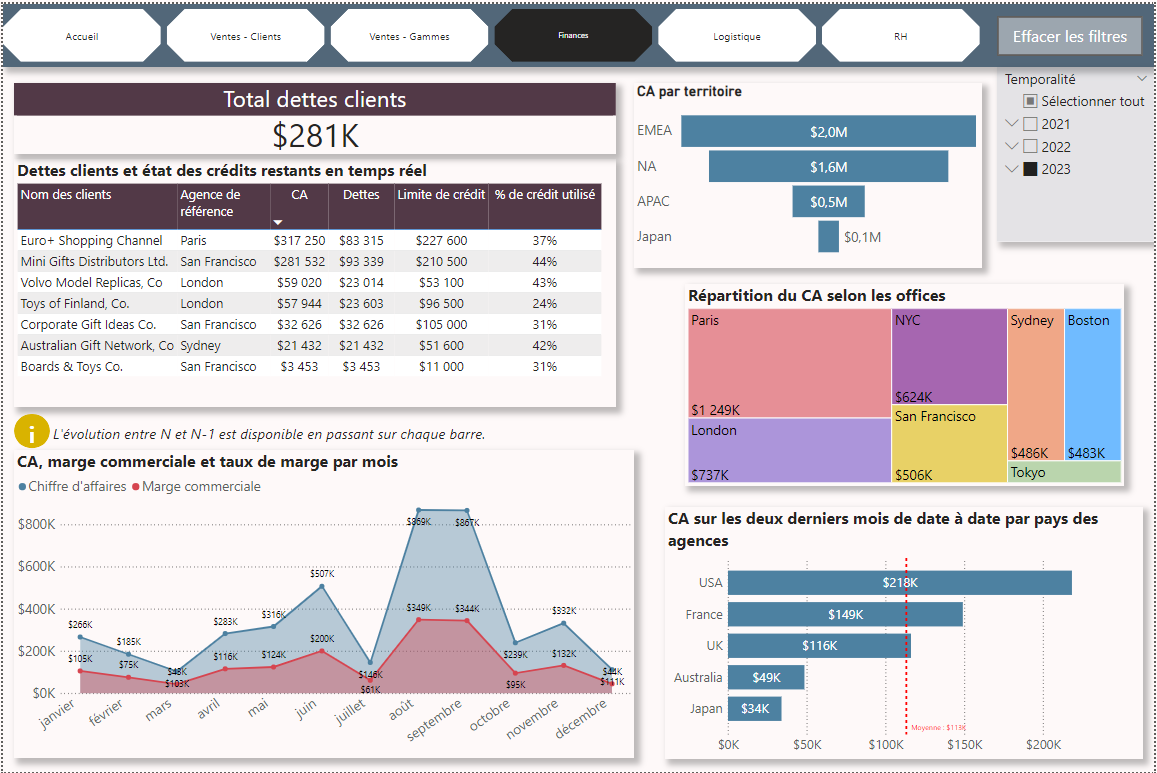

This screenshot's page, from the dashboard's own definition file:
{"tool":"powerbi","page":{"name":"Finances","canvas":[1920,1280],"ordinal":3},"visuals":[{"type":"textbox","box":[0,0,1920,105],"z":0},{"type":"tableEx","title":"Dettes clients et état des  crédits restants en temps réel","fields":{"Values":["toys_and_models dettes_clients.customerName","toys_and_models customers.agence référente","Sum(toys_and_models orderdetails.CA calculé)","Sum(toys_and_models dettes_clients.total_dette)","Sum(toys_and_models dettes_clients.creditLimit)","toys_and_models dettes_clients.creditRestant divisé par creditLimit"]},"box":[18.5,258.5,1003.1,413.8],"z":1000},{"type":"pageNavigator","box":[0,8.3,1631.7,88.3],"z":2000},{"type":"actionButton","box":[1656.7,20,243.3,66.7],"z":3000},{"type":"card","title":"Total dettes clients","fields":{"Values":["Sum(toys_and_models dettes_clients.total_dette)"]},"box":[18.5,132.3,1003.1,118.5],"z":4000},{"type":"slicer","fields":{"Values":["Calendar.Full.Variation.Hiérarchie de dates.Année","Calendar.Full.Variation.Hiérarchie de dates.Mois"]},"box":[1656.7,105,263.3,291],"z":5000},{"type":"clusteredBarChart","title":"CA sur les deux derniers mois de date à date par pays des agences","fields":{"Category":["toys_and_models offices.country"],"Y":["Sum(toys_and_models orderdetails.CA calculé)"]},"box":[1104,838,796,420],"z":6000},{"type":"areaChart","title":"CA, marge commerciale et taux de marge par mois","fields":{"Y":["Sum(toys_and_models orderdetails.CA calculé)","Sum(toys_and_models orderdetails.Marge brute)"],"Category":["Calendar.Full.Variation.Hiérarchie de dates.Mois"]},"box":[18,744,1034,514],"z":7000},{"type":"funnel","title":"CA par territoire","fields":{"Y":["Sum(toys_and_models orderdetails.CA calculé)"],"Category":["toys_and_models offices.territory"]},"box":[1052.3,132.3,580,307.7],"z":8000},{"type":"treemap","title":"Répartition du CA selon les offices","fields":{"Values":["Sum(toys_and_models orderdetails.CA calculé)"],"Group":["toys_and_models offices.city"]},"box":[1136,466,732,336],"z":9000},{"type":"shape","box":[18.5,683.1,60,56.9],"z":10000},{"type":"textbox","box":[78.5,693.8,818.5,46.2],"z":11000}]}

Visuals, with their boxes in screenshot pixels (x1, y1, x2, y2), scaled from the page's 1920x1280 canvas onto the 1157x773 screenshot:
textbox: select_region(0, 0, 1156, 63)
"Dettes clients et état des  crédits restants en temps réel" tableEx: select_region(11, 156, 616, 406)
pageNavigator: select_region(0, 5, 983, 58)
actionButton: select_region(998, 12, 1145, 52)
"Total dettes clients" card: select_region(11, 80, 616, 151)
slicer - Calendar.Full.Variation.Hiérarchie de dates.Année x Calendar.Full.Variation.Hiérarchie de dates.Mois: select_region(998, 63, 1156, 239)
"CA sur les deux derniers mois de date à date par pays des agences" clusteredBarChart: select_region(665, 506, 1145, 760)
"CA, marge commerciale et taux de marge par mois" areaChart: select_region(11, 449, 634, 760)
"CA par territoire" funnel: select_region(634, 80, 984, 266)
"Répartition du CA selon les offices" treemap: select_region(685, 281, 1126, 484)
shape: select_region(11, 413, 47, 447)
textbox: select_region(47, 419, 541, 447)
